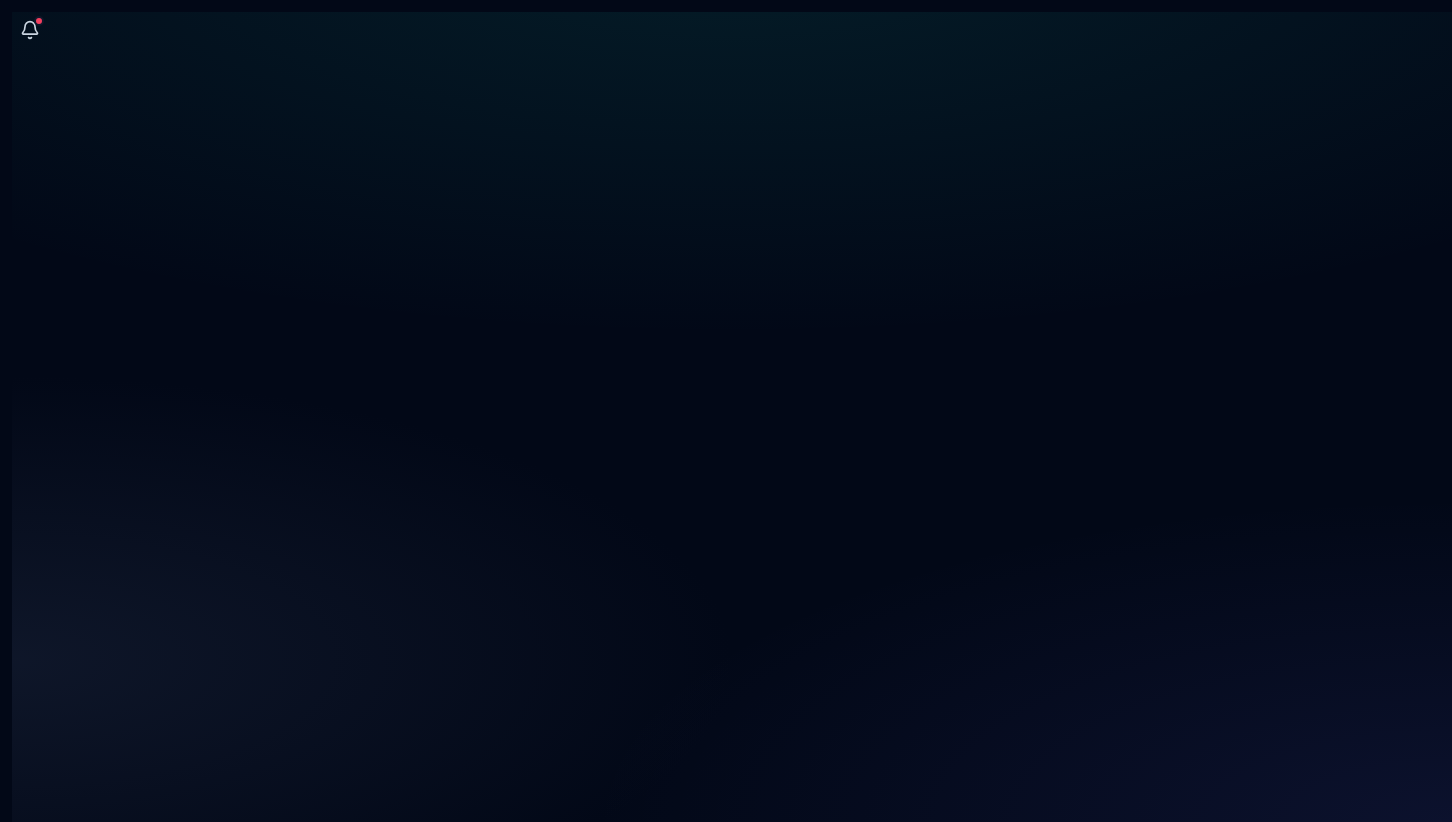
actual notification dropdown renders a zoned absolute timestamp with the UTC machine value
Step 1. Click the button named "Notifications" → {"x": 30, "y": 30}, box [12,12,48,48]
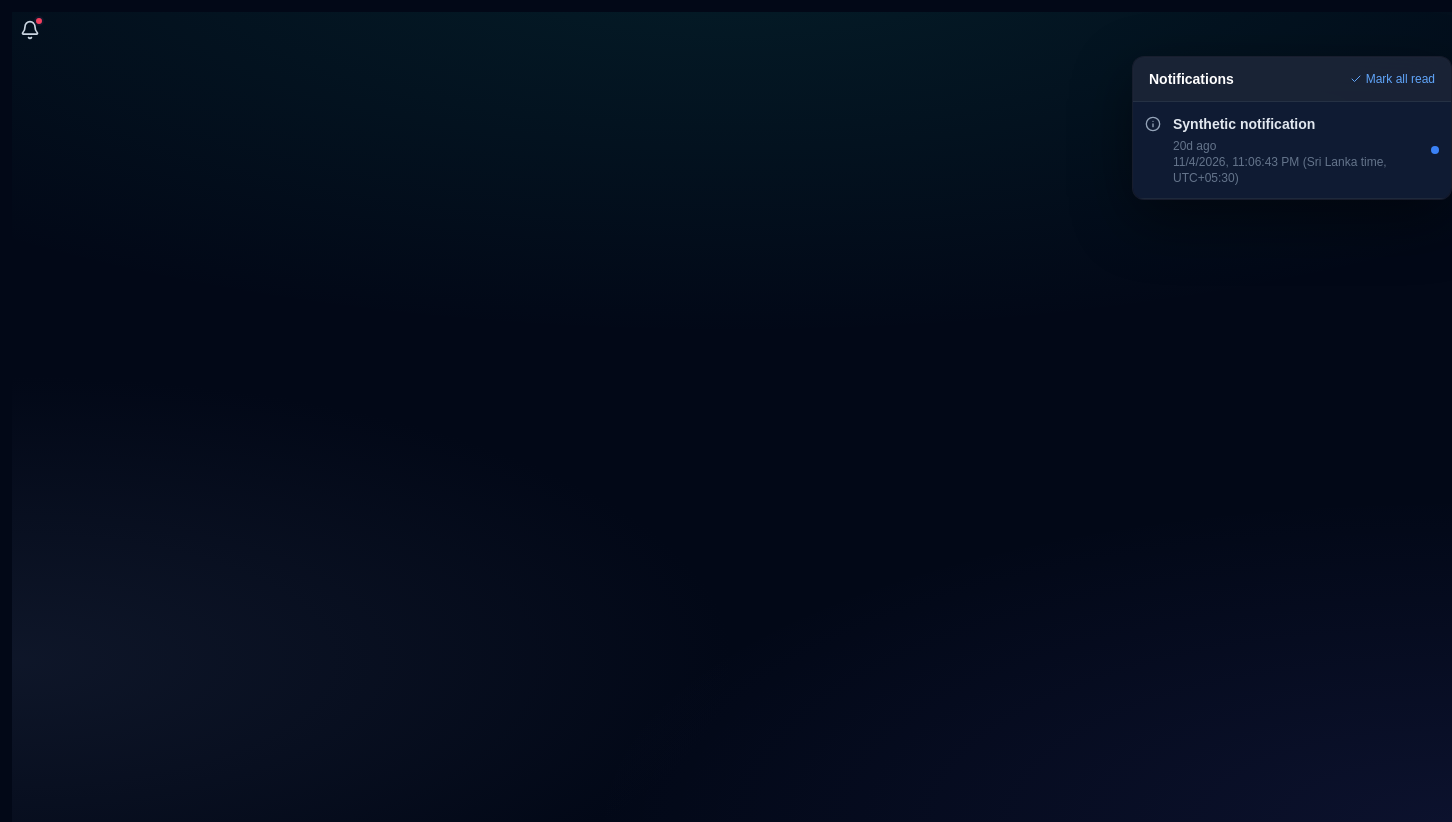
expect the text "11/4/2026, 11:06:43 PM (Sri Lanka time, UTC+05:30)" is shown: met, box [1173,154,1419,186]
